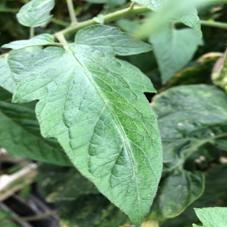Healthy: (0, 22, 163, 227)
